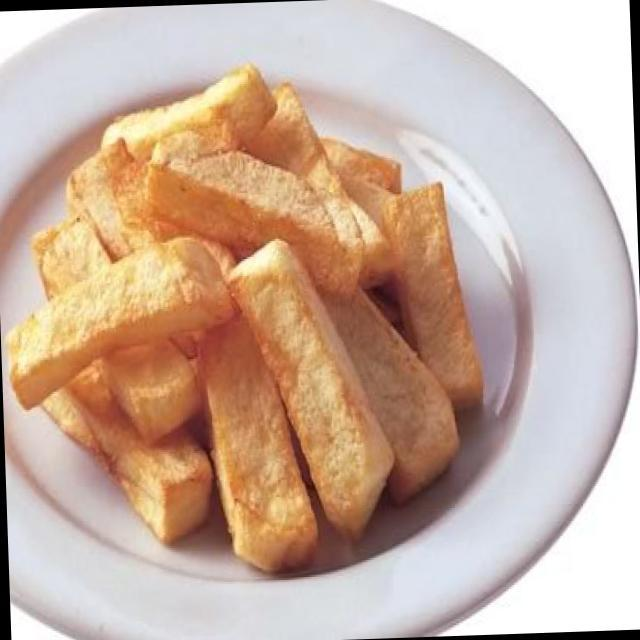French Fries: (27, 78, 513, 552)
